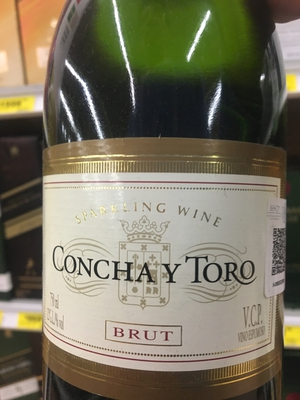brut: (39, 27, 288, 400)
